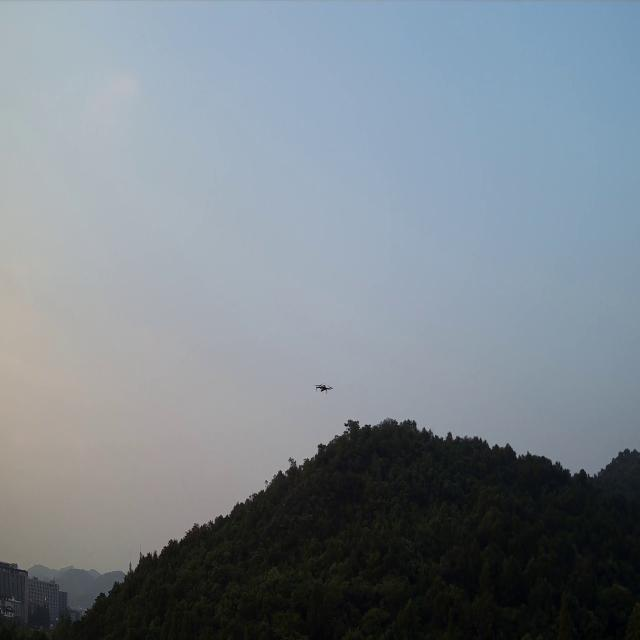UAV: (313, 382, 334, 395)
